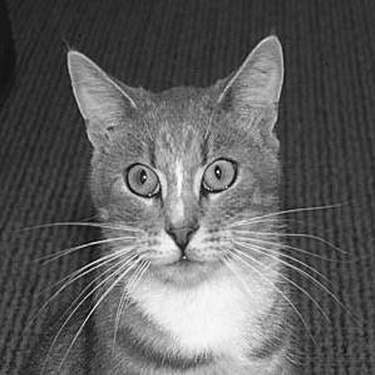cat: (40, 33, 321, 364)
